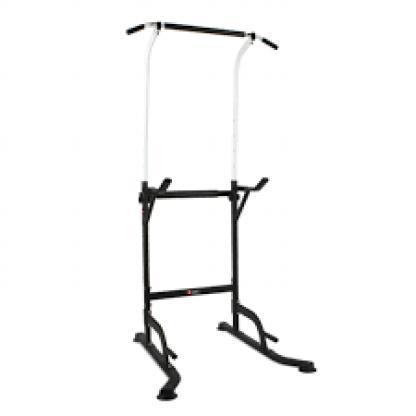chinning dipping: (124, 20, 318, 403)
